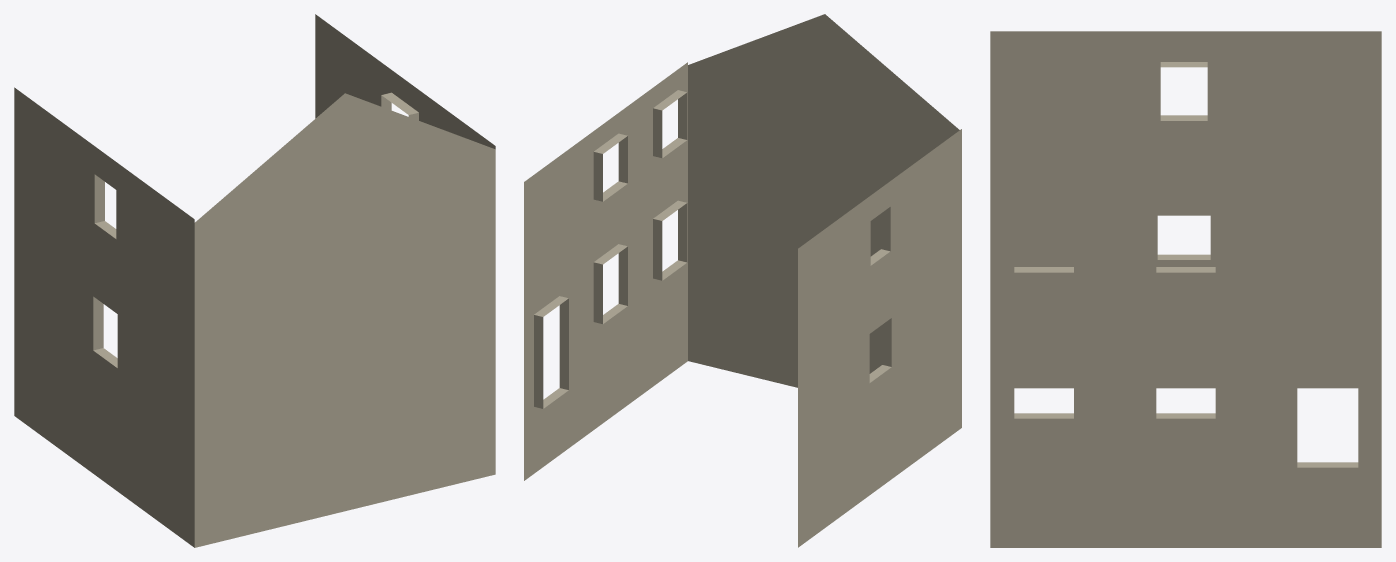
The model's file is SM_Bld_087_Render.glb.
3 renders of one model, left to right at view 1: azimuth 30°, elevation 25°; view 2: azimuth 150°, elevation 25°; view 3: azimuth 270°, elevation 25°, orthographic. The views are drawn at different scales.
Parts seen in each view (by area): view 1: SM_Bld_087_Render; view 2: SM_Bld_087_Render; view 3: SM_Bld_087_Render.
Boxes of the visible parts, x1=… form: SM_Bld_087_Render: x1=14, y1=14, x2=495, y2=547; SM_Bld_087_Render: x1=524, y1=14, x2=961, y2=547; SM_Bld_087_Render: x1=990, y1=31, x2=1381, y2=547.
Size of the model in its own units: 6.39 by 8.48 by 6.63.
